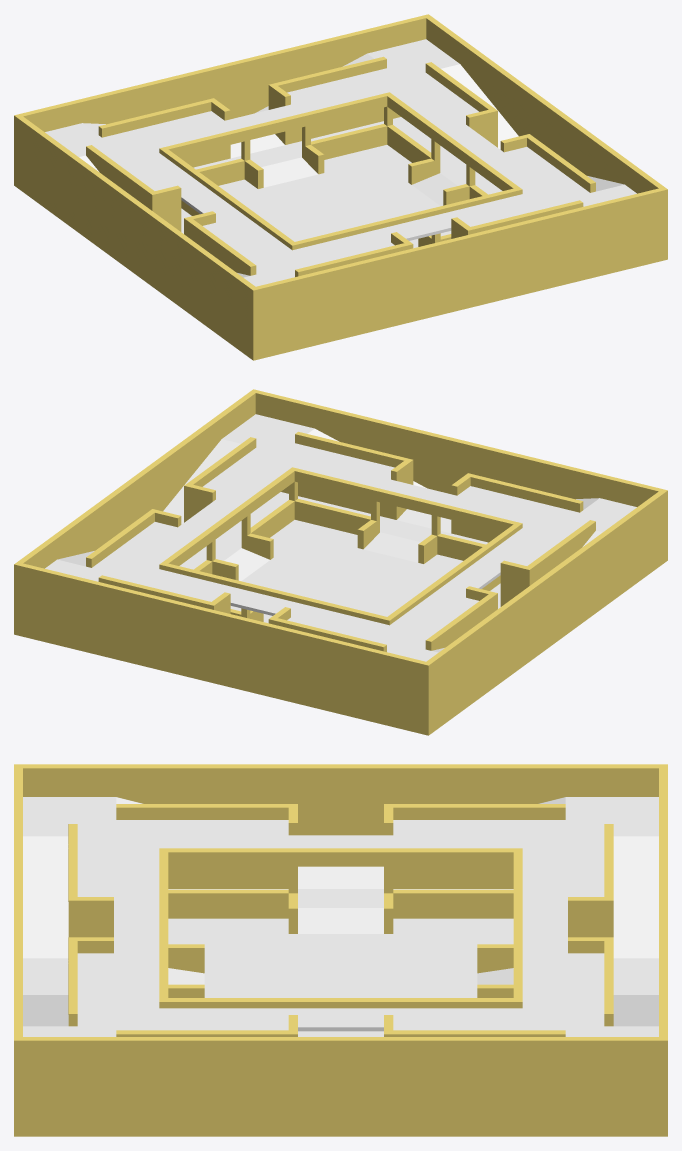
The model's file is arena.glb.
The picture shows the model from 3 angles, top to bottom: view 1: azimuth 30°, elevation 25°; view 2: azimuth 150°, elevation 25°; view 3: azimuth 270°, elevation 25°; orthographic projection. The views are drawn at different scales.
Visible parts, largest first — view 1: arena; view 2: arena; view 3: arena.
Part boxes in pixels (x1,y1,x2,y2): arena: (14, 14, 667, 360); arena: (14, 389, 667, 735); arena: (14, 764, 667, 1136).
Size of what is drawn, in the model's own units: 43.89 by 7.1 by 43.89.
